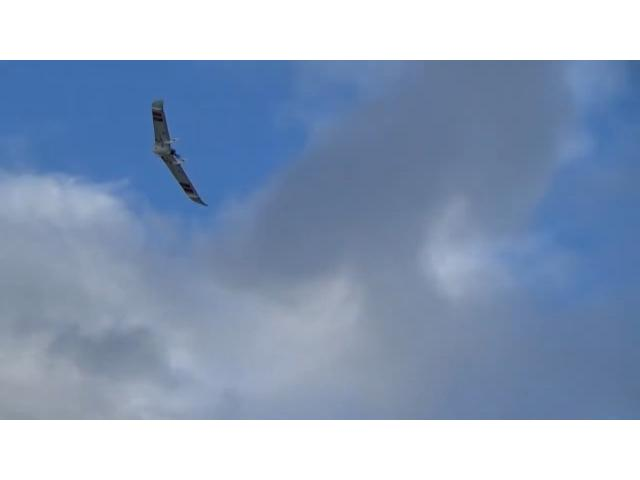Anti-Drone: (150, 97, 210, 207)
